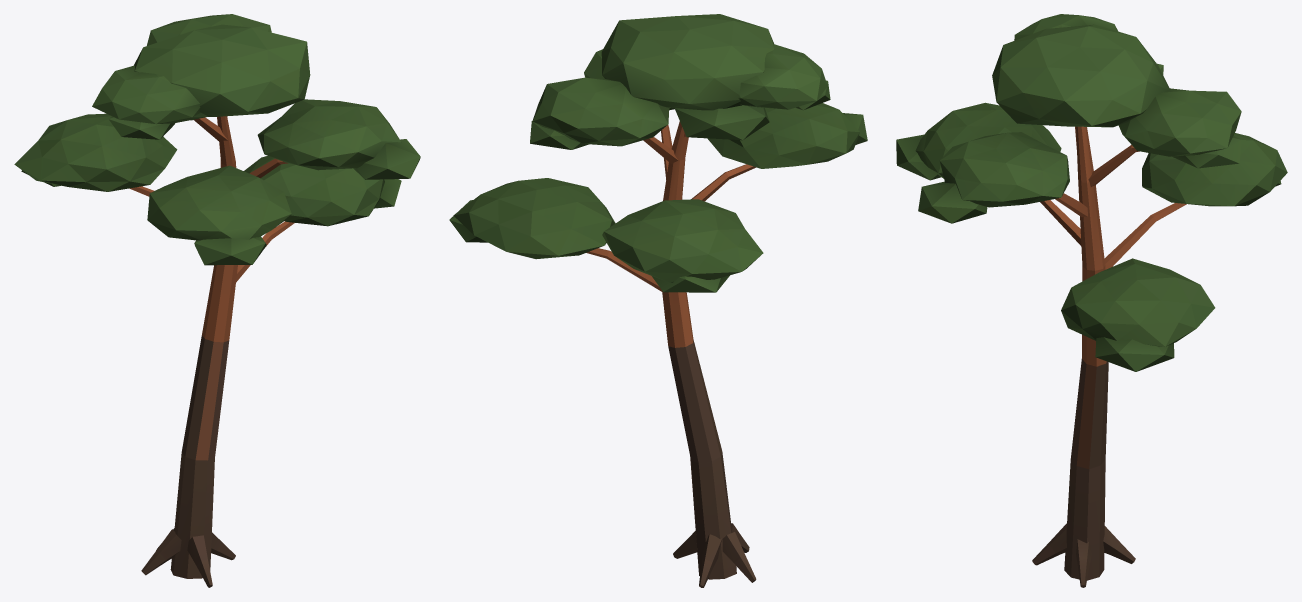
The model's file is tree_big_pine.glb.
The picture shows the model from 3 angles, left to right: view 1: azimuth 30°, elevation 25°; view 2: azimuth 150°, elevation 25°; view 3: azimuth 270°, elevation 25°; orthographic projection. The views are drawn at different scales.
Size of the model in its own units: 8.64 by 13.05 by 8.58.
